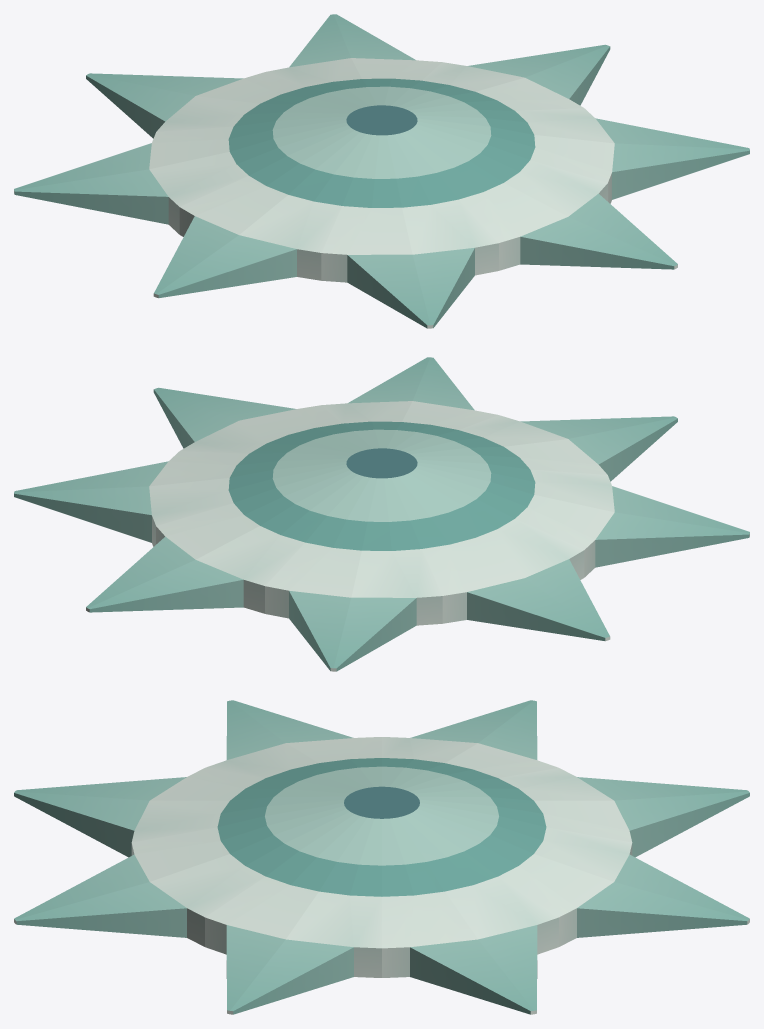
File: Sawblade.fbx
3 renders of one model, top to bottom at view 1: azimuth 30°, elevation 25°; view 2: azimuth 150°, elevation 25°; view 3: azimuth 270°, elevation 25°, orthographic. The views are drawn at different scales.
Parts seen in each view (by area): view 1: Sawblade; view 2: Sawblade; view 3: Sawblade.
Boxes of the visible parts, x1,y1,x2,y2 form: Sawblade: (14,14,749,328); Sawblade: (14,357,749,671); Sawblade: (14,700,749,1014).
Bounding box in the file's own units: 216 × 35.69 × 216.
